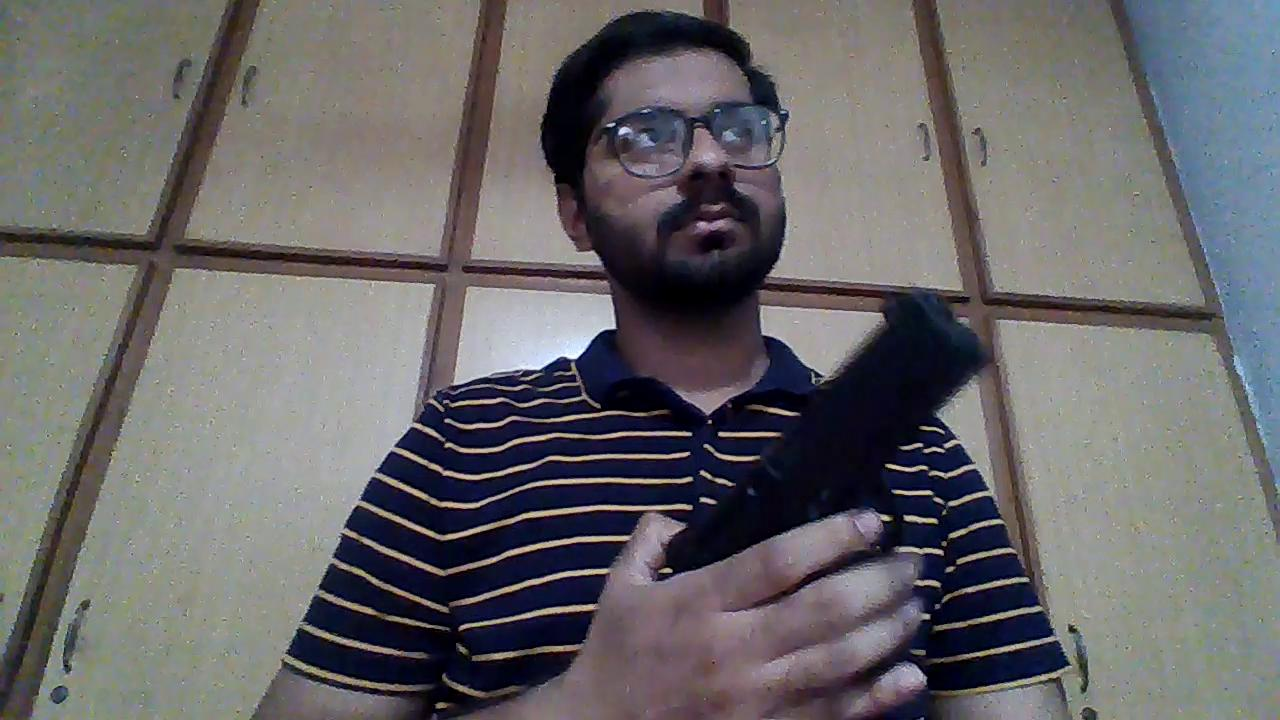criminal: (251, 8, 1075, 720)
weapon: (663, 286, 998, 586)
